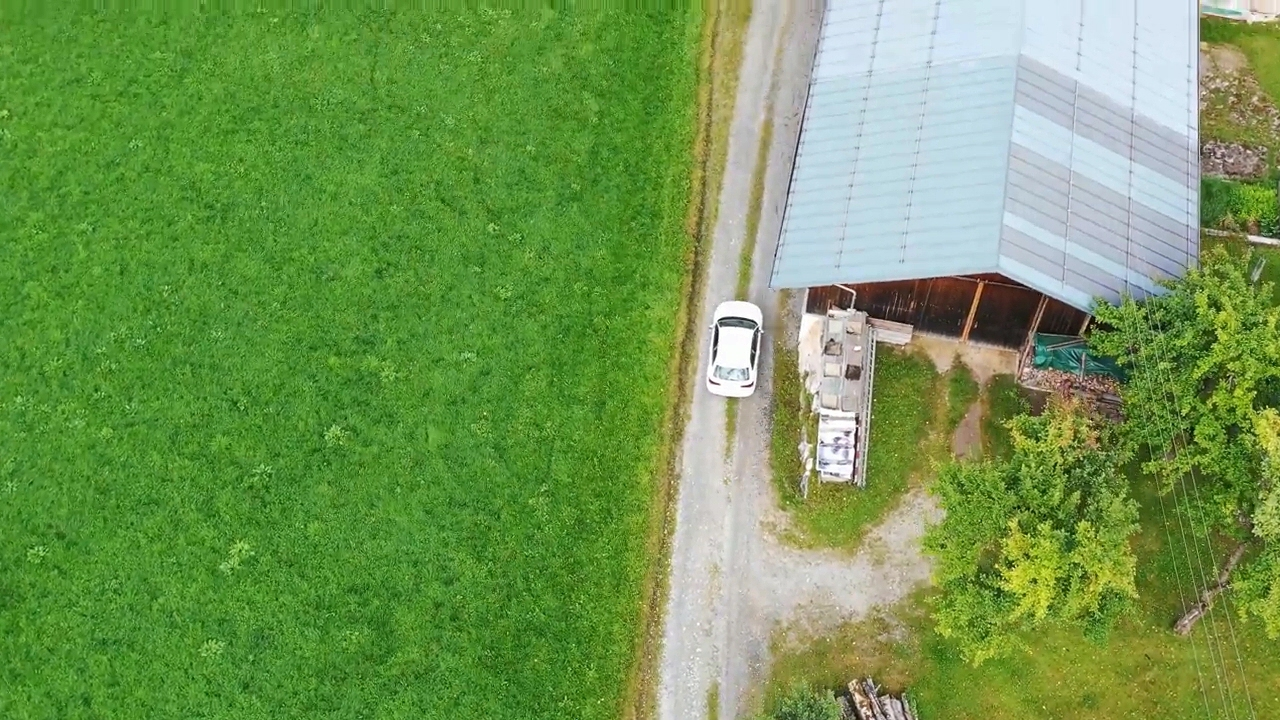araba: (707, 302, 767, 398)
